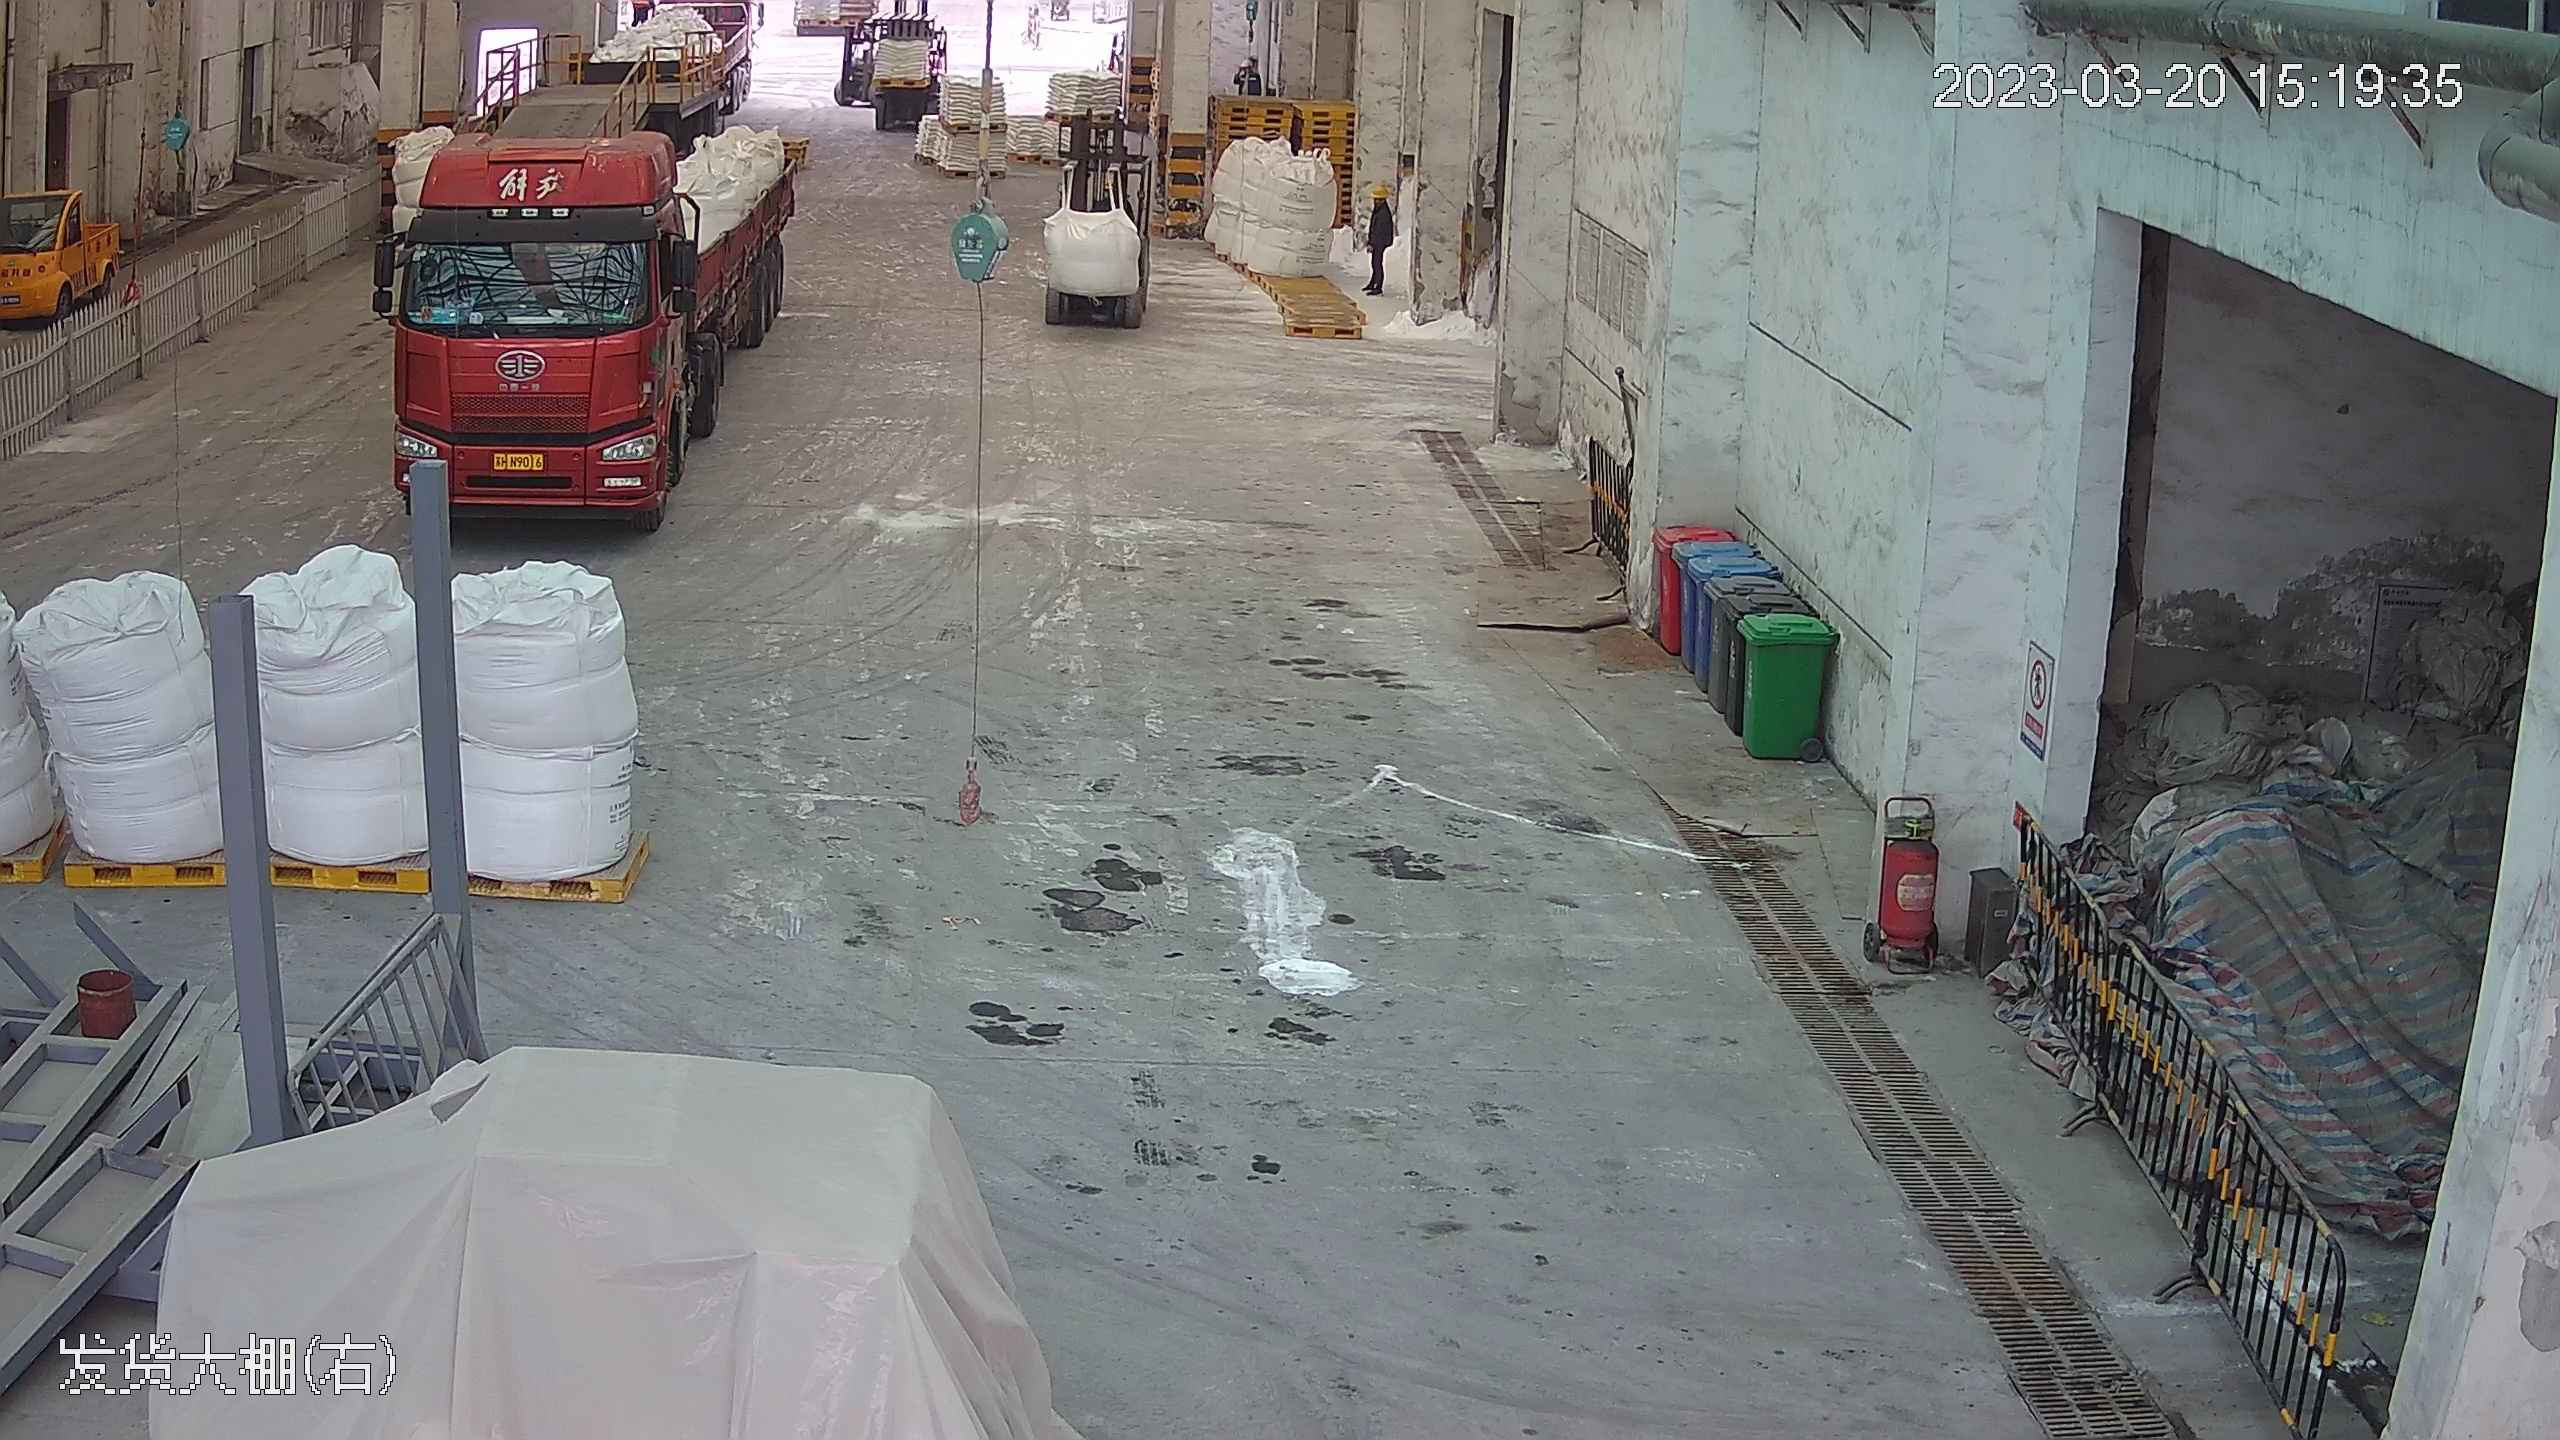head: (1365, 180, 1396, 221), (1235, 56, 1261, 88)
helmet: (1371, 179, 1391, 197), (1239, 59, 1252, 69)
people: (1358, 176, 1400, 297)
truck: (373, 58, 802, 521)
